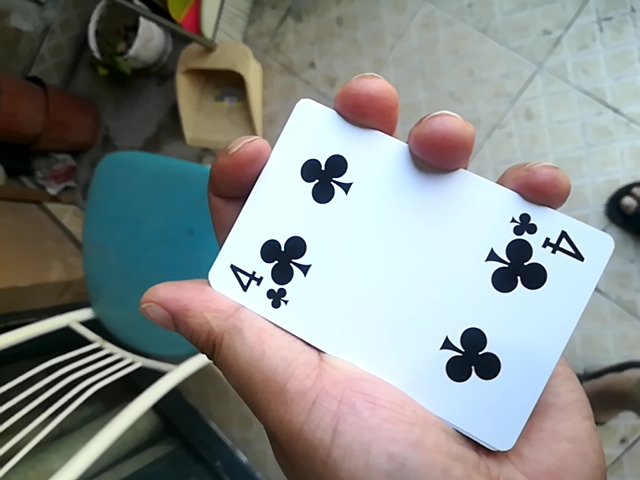mh 4: (184, 87, 627, 458)
